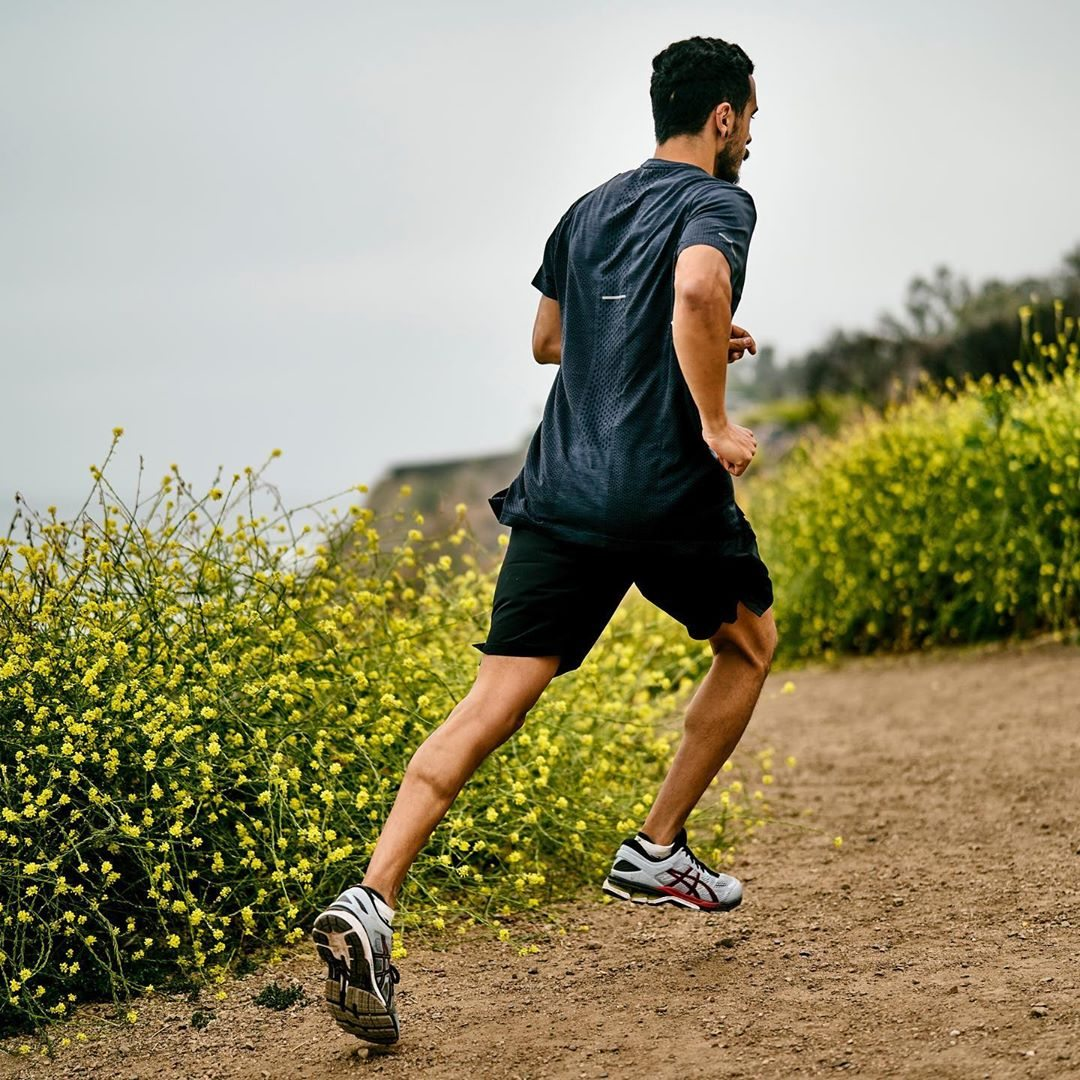Person: (291, 35, 792, 1055)
